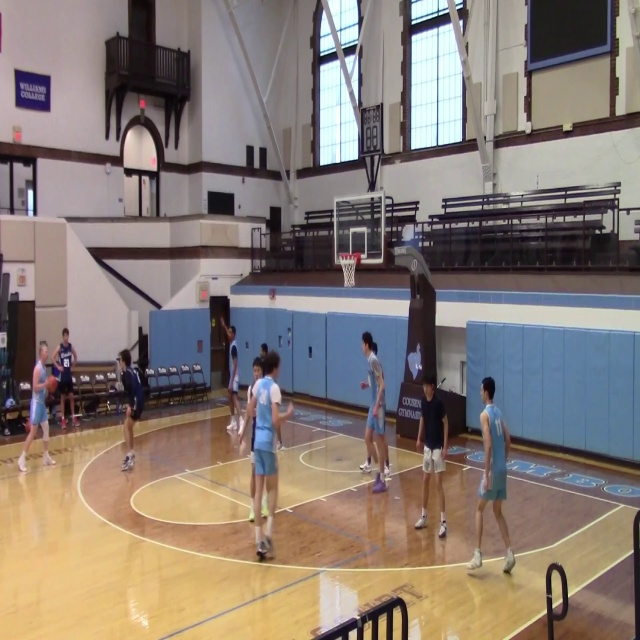Basketball: (45, 376, 57, 393)
